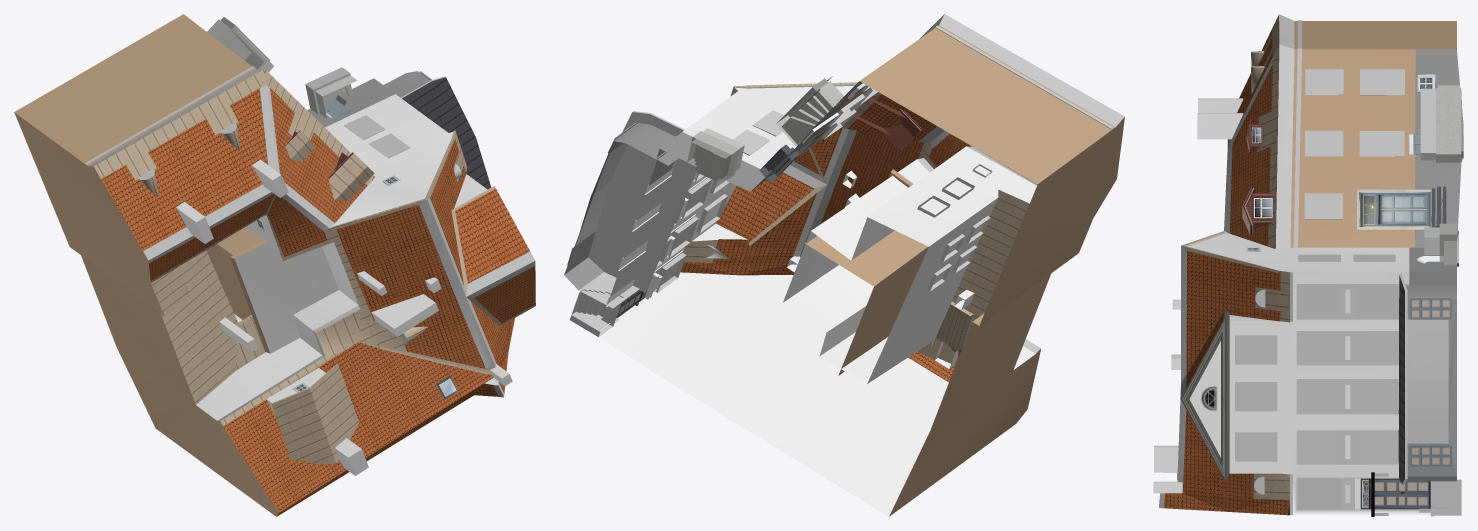
The model's file is Voorimehe_1.obj.
3 renders of one model, left to right at view 1: azimuth 30°, elevation 25°; view 2: azimuth 150°, elevation 25°; view 3: azimuth 270°, elevation 25°, orthographic. The views are drawn at different scales.
Visible parts, largest first — view 1: Voorimehe_1; view 2: Voorimehe_1; view 3: Voorimehe_1.
Boxes of the visible parts, bbox=[...] form: Voorimehe_1: bbox=[14, 14, 535, 516]; Voorimehe_1: bbox=[564, 14, 1124, 516]; Voorimehe_1: bbox=[1153, 14, 1463, 516].
Bounding box in the file's own units: 31.93 × 27.19 × 16.95.
